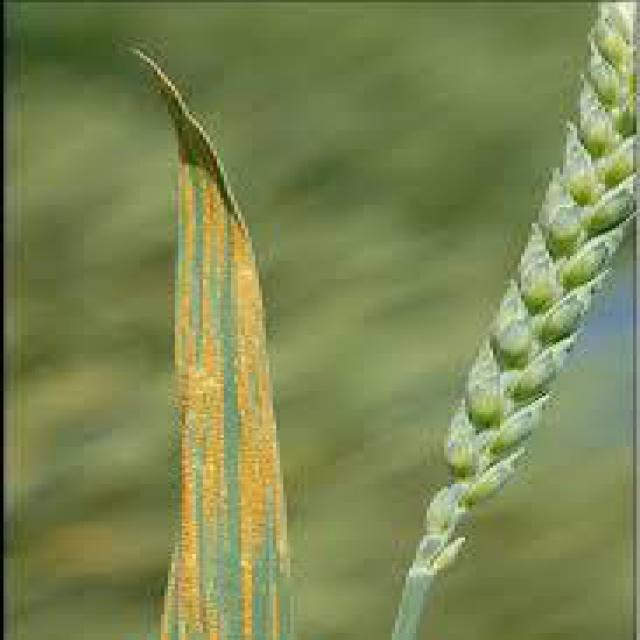wheat-yellowrust: (129, 47, 297, 640)
